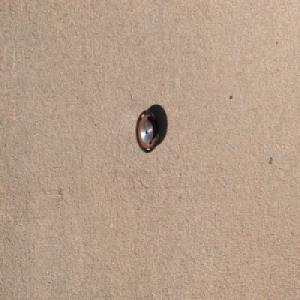FuelCap: (134, 108, 159, 154)
